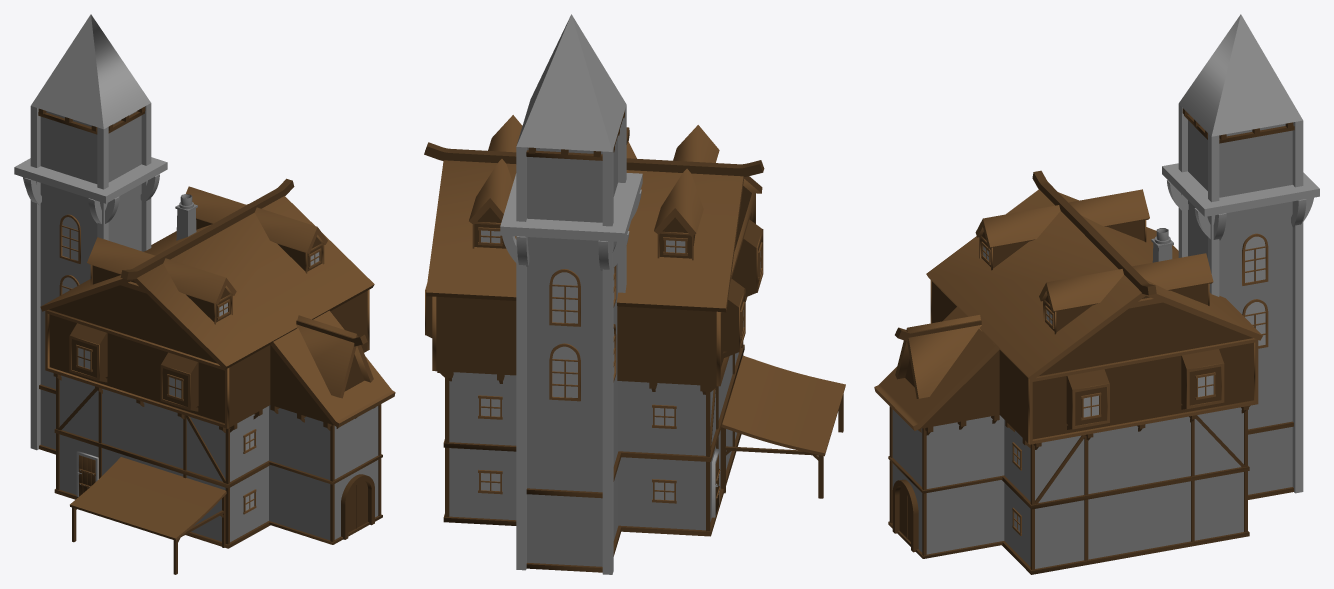
File: castle.glb
The picture shows the model from 3 angles, left to right: view 1: azimuth 30°, elevation 25°; view 2: azimuth 150°, elevation 25°; view 3: azimuth 270°, elevation 25°; orthographic projection. The views are drawn at different scales.
Parts seen in each view (by area): view 1: Root; view 2: Root; view 3: Root.
Part boxes in pixels (x1,y1,x2,y2): Root: [14, 14, 395, 574]; Root: [424, 14, 845, 574]; Root: [874, 14, 1319, 574].
Bounding box in the file's own units: 13 × 17.95 × 15.44.
